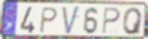4: (19, 6, 36, 35)
6: (83, 7, 99, 36)
P: (101, 7, 122, 35), (38, 7, 59, 34)
Q: (122, 7, 144, 36)
V: (61, 6, 81, 37)
